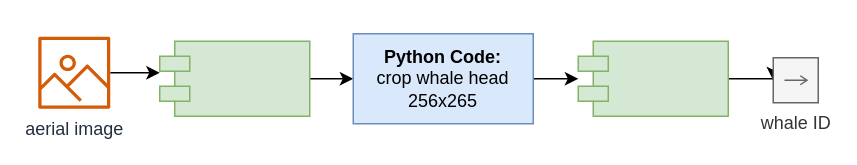
The diagram is 857 pixels wide and 165 high, and some of its shapes have lost their labels. The shapes that lost their labels are listed below. From the top down, each one's box as (x1, y1, x2, y2) in pixels, then its label:
(158, 40, 310, 116): YOLOv5: Whale Head Detection
(577, 40, 728, 116): EfficientNet Whale Detection
